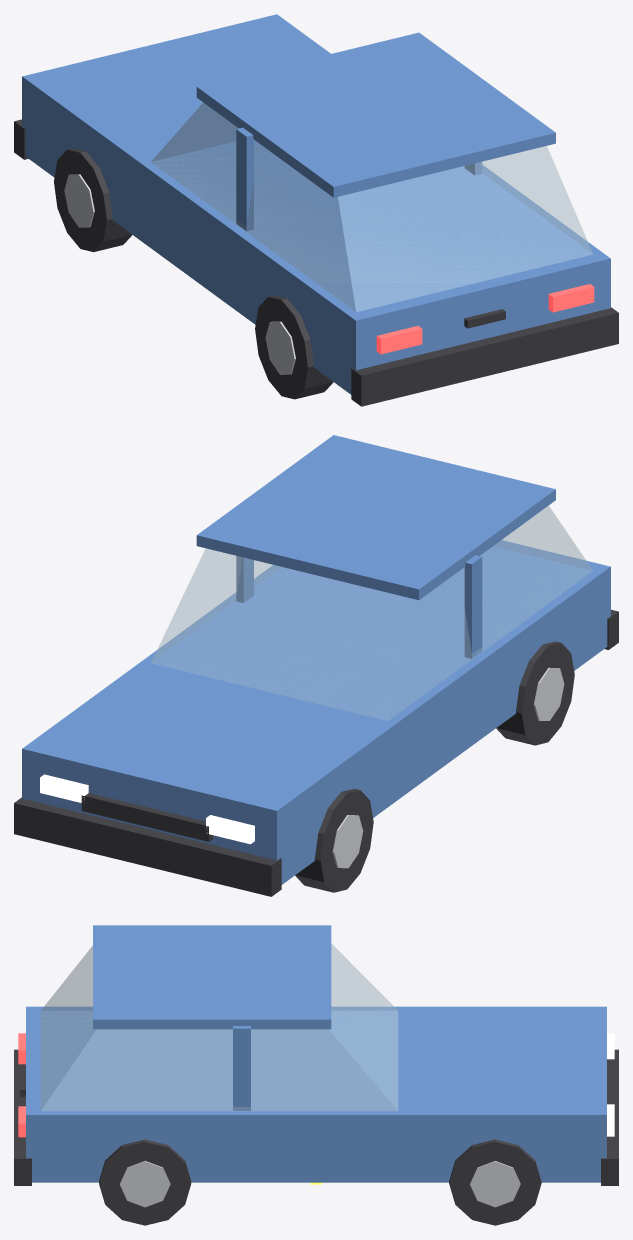
File: car_hatchback_blue.glb
The picture shows the model from 3 angles, top to bottom: view 1: azimuth 30°, elevation 25°; view 2: azimuth 150°, elevation 25°; view 3: azimuth 270°, elevation 25°; orthographic projection. The views are drawn at different scales.
Visible parts, largest first — view 1: body, wheel_fl, wheel_rl; view 2: body, wheel_fl, wheel_rl; view 3: body, wheel_fr, wheel_rr.
Boxes of the visible parts, <box> form: body: <box>14,14,618,406</box>; wheel_fl: <box>54,148,132,252</box>; wheel_rl: <box>255,295,333,399</box>; body: <box>14,435,618,896</box>; wheel_fl: <box>295,788,373,892</box>; wheel_rl: <box>496,641,574,745</box>; body: <box>14,925,618,1185</box>; wheel_fr: <box>449,1139,541,1225</box>; wheel_rr: <box>99,1139,191,1225</box>.
Bounding box in the file's own units: 1.82 × 1.53 × 4.06.
